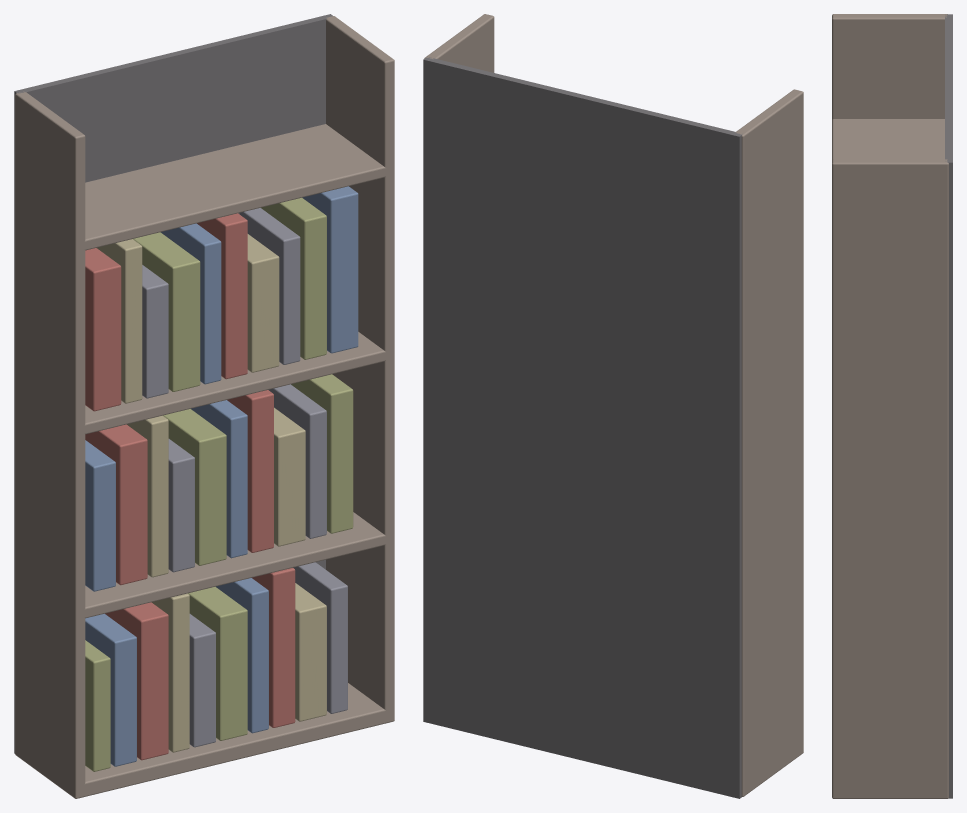
Rendered from sketch_bookshelf.glb.
3 renders of one model, left to right at view 1: azimuth 30°, elevation 25°; view 2: azimuth 150°, elevation 25°; view 3: azimuth 270°, elevation 25°, orthographic. The views are drawn at different scales.
Visible parts, largest first — view 1: Cube.004, Cube.036, Cube.005, Cube.003, Cube.001, Cube, Cube.002, Cube.029, Cube.026, Cube.017, Cube.035, Cube.020 (+25 smaller); view 2: Cube.036, Cube.004, Cube.005; view 3: Cube.005, Cube.004, Cube.003, Cube.036.
Part boxes in pixels (x1,y1,x2,y2): Cube.004: (15,91,85,798); Cube.036: (14,14,332,753); Cube.005: (326,16,394,723); Cube.003: (78,124,391,250); Cube.001: (78,512,391,618); Cube: (78,683,391,798); Cube.002: (78,332,391,434); Cube.029: (133,232,200,391); Cube.026: (85,248,121,411); Cube.017: (85,424,147,585); Cube.035: (302,186,358,353); Cube.020: (163,409,226,565); Cube.036: (423,56,742,798); Cube.004: (735,89,803,796); Cube.005: (424,14,494,72); Cube.005: (832,159,948,798); Cube.004: (832,14,947,119); Cube.003: (832,119,944,159); Cube.036: (945,14,952,798).
Size of the model in its own units: 0.91 by 1.8 by 0.31.
